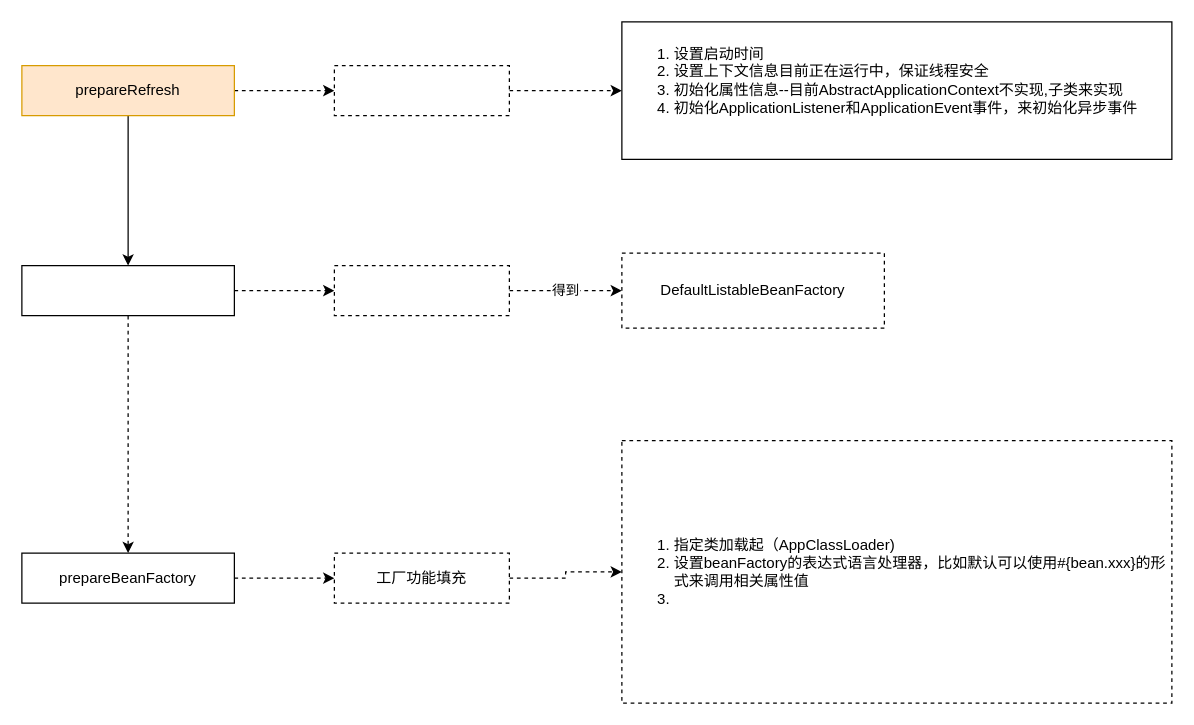
Image size: 1194x725. Some labels were removed from this diagram. The shapes that lost their labels are listed below. From the top down, each one's box as (x1, y1, x2, y2) in pixels, then its label:
(333, 64, 509, 116): 准备上下文环境
(21, 264, 234, 316): obtainFreshBeanFactory
(333, 264, 509, 316): 初始化BeanFactory，通知子类刷新自己的内部实现的工厂
